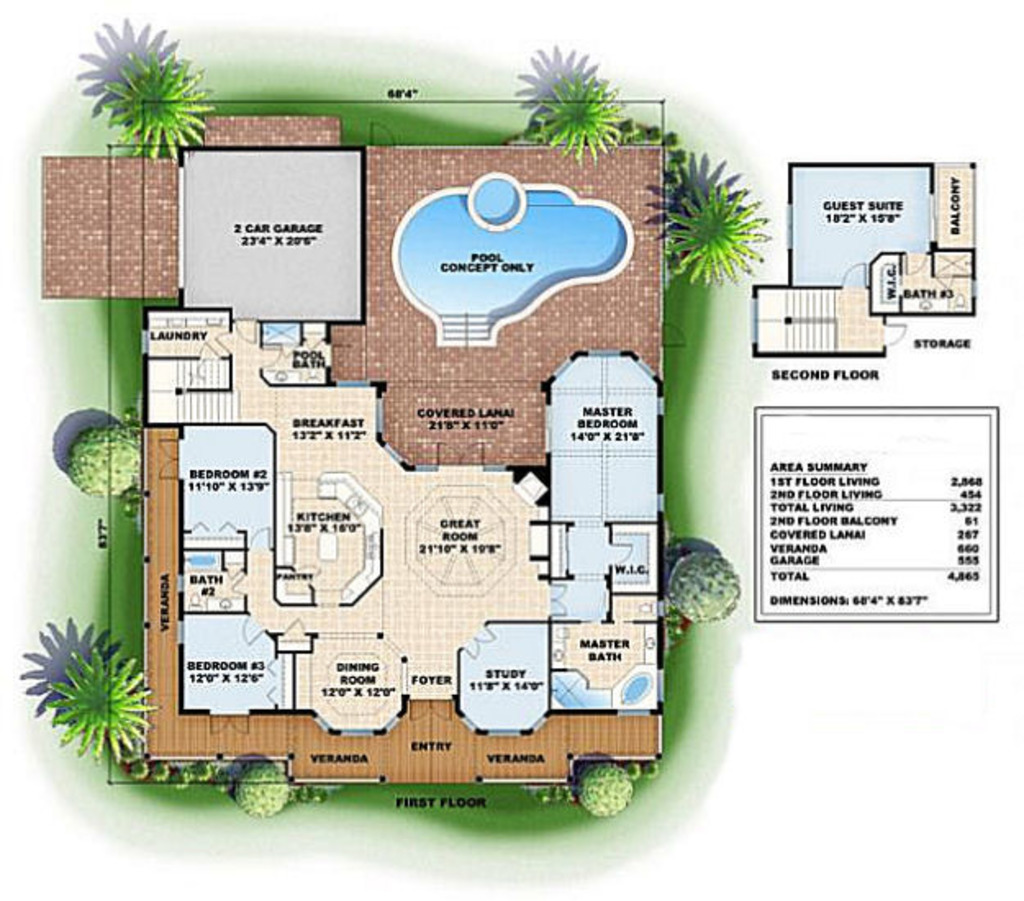door: (460, 631, 496, 661), (548, 581, 566, 620), (240, 617, 264, 644)
stairs: (752, 281, 841, 356), (140, 357, 237, 424)
